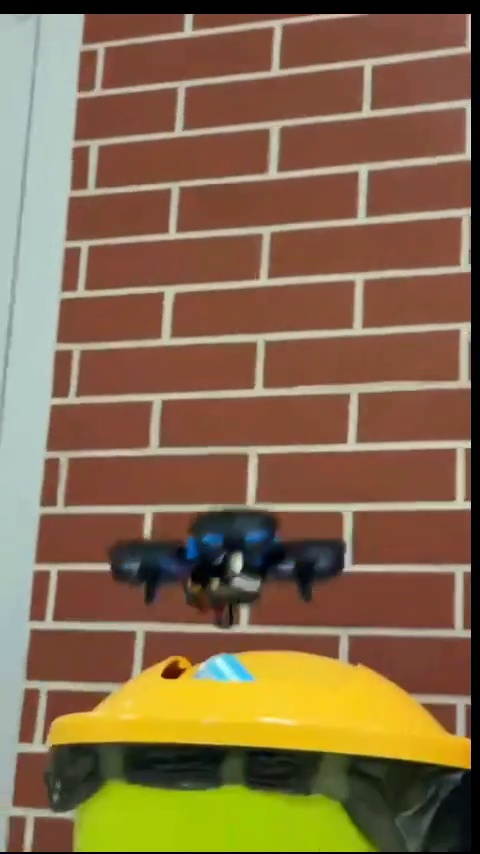drone: (109, 510, 345, 624)
